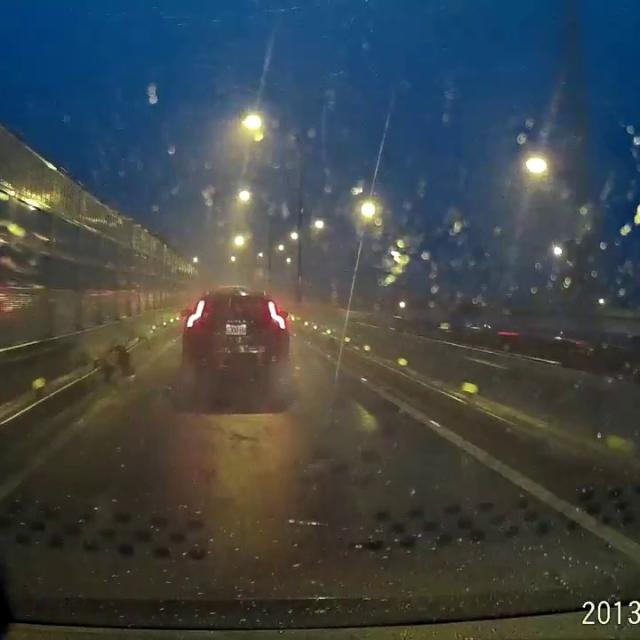Car: (179, 285, 289, 376)
